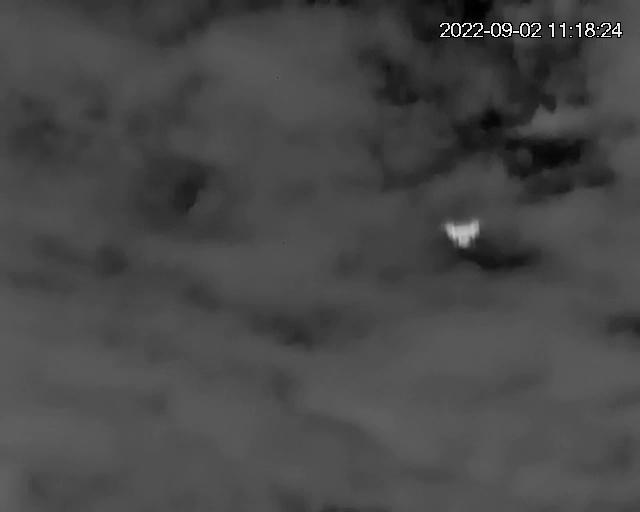DJI-Phantom: (442, 212, 482, 252)
